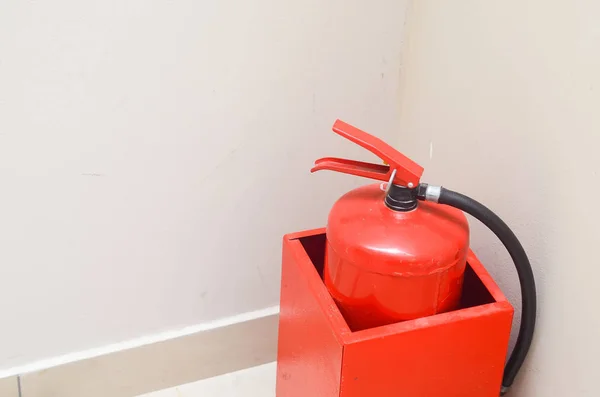fire_extinguisher: (277, 118, 537, 396), (308, 118, 537, 395)
